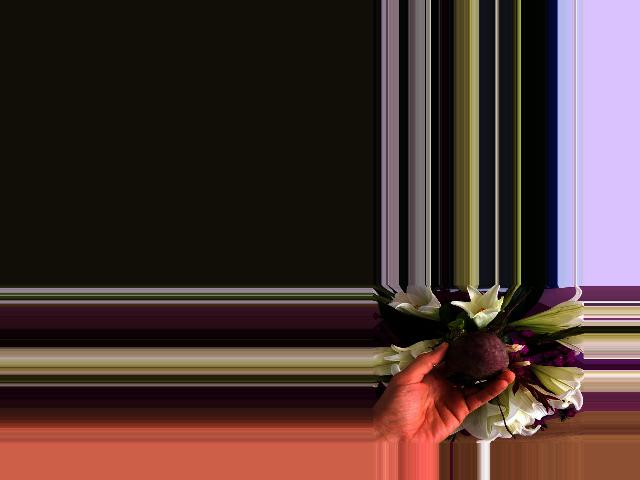beet: (446, 288, 533, 387)
